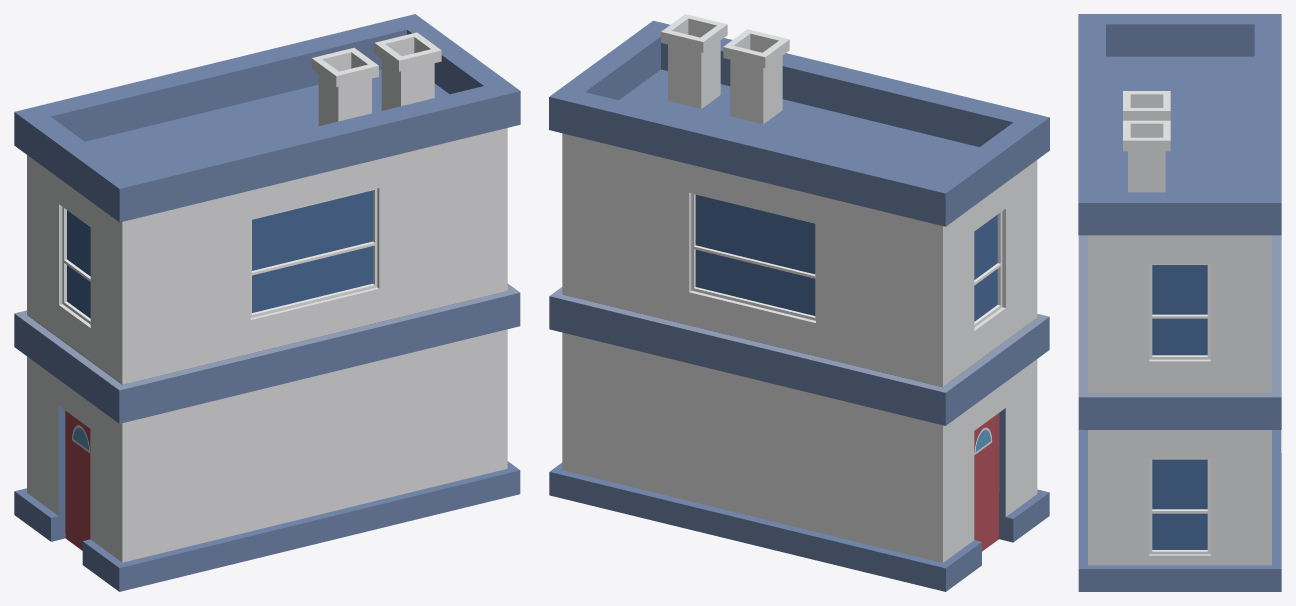
The model's file is Buidling_02.fbx.
The picture shows the model from 3 angles, left to right: view 1: azimuth 30°, elevation 25°; view 2: azimuth 150°, elevation 25°; view 3: azimuth 270°, elevation 25°; orthographic projection. The views are drawn at different scales.
Visible parts, largest first — view 1: SmlBuilding; view 2: SmlBuilding; view 3: SmlBuilding.
Boxes of the visible parts, x1,y1,x2,y2 form: SmlBuilding: [14, 14, 520, 591]; SmlBuilding: [549, 14, 1049, 591]; SmlBuilding: [1078, 14, 1281, 591].
Size of the model in its own units: 417 by 437 by 189.
